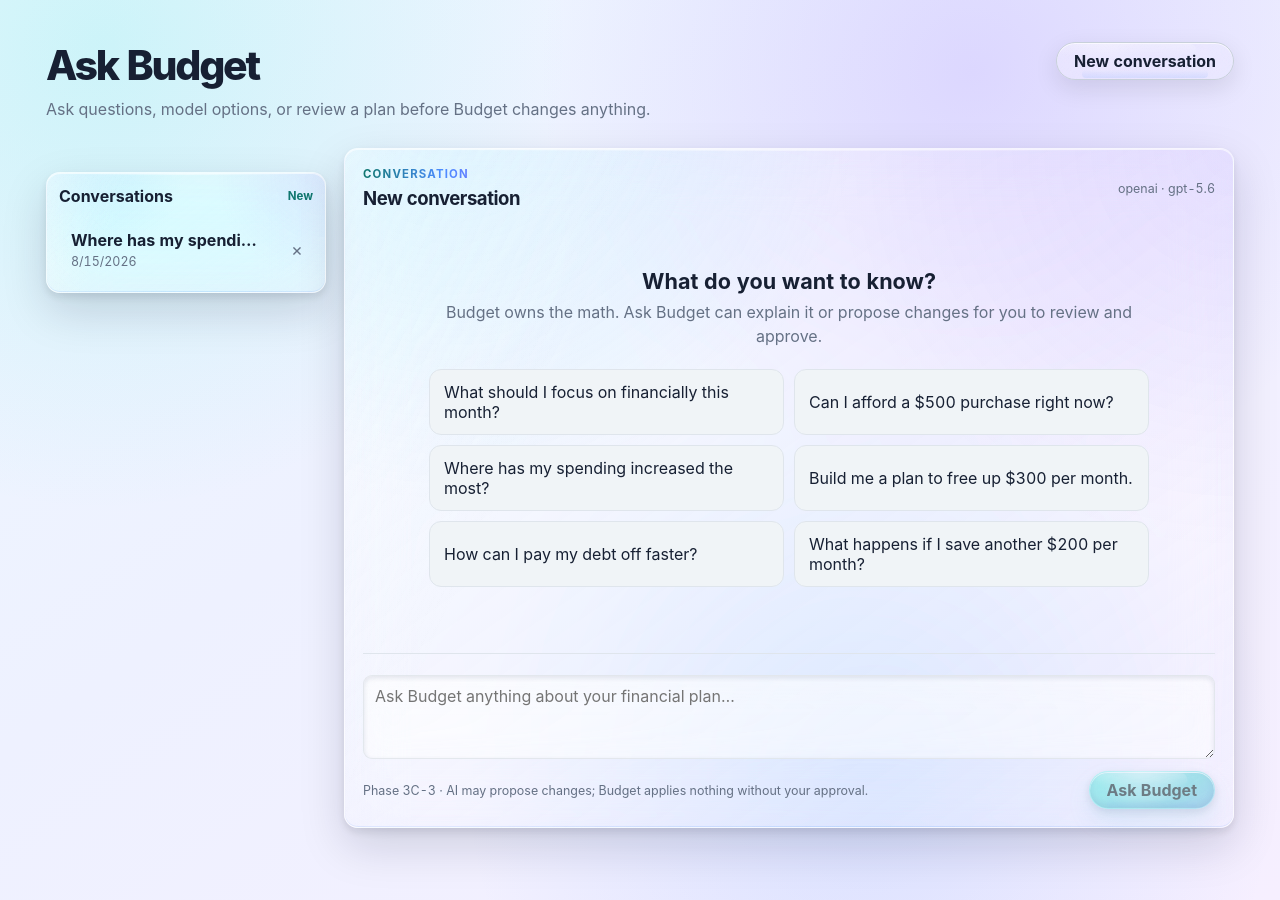
Test case: AdvisorPage › uses an in-app confirmation dialog before deleting a saved conversation
What coordinates should you click on to do the following:
click the button "×"
I would click on:
 (297, 250)
Its box is [281,219,313,280].
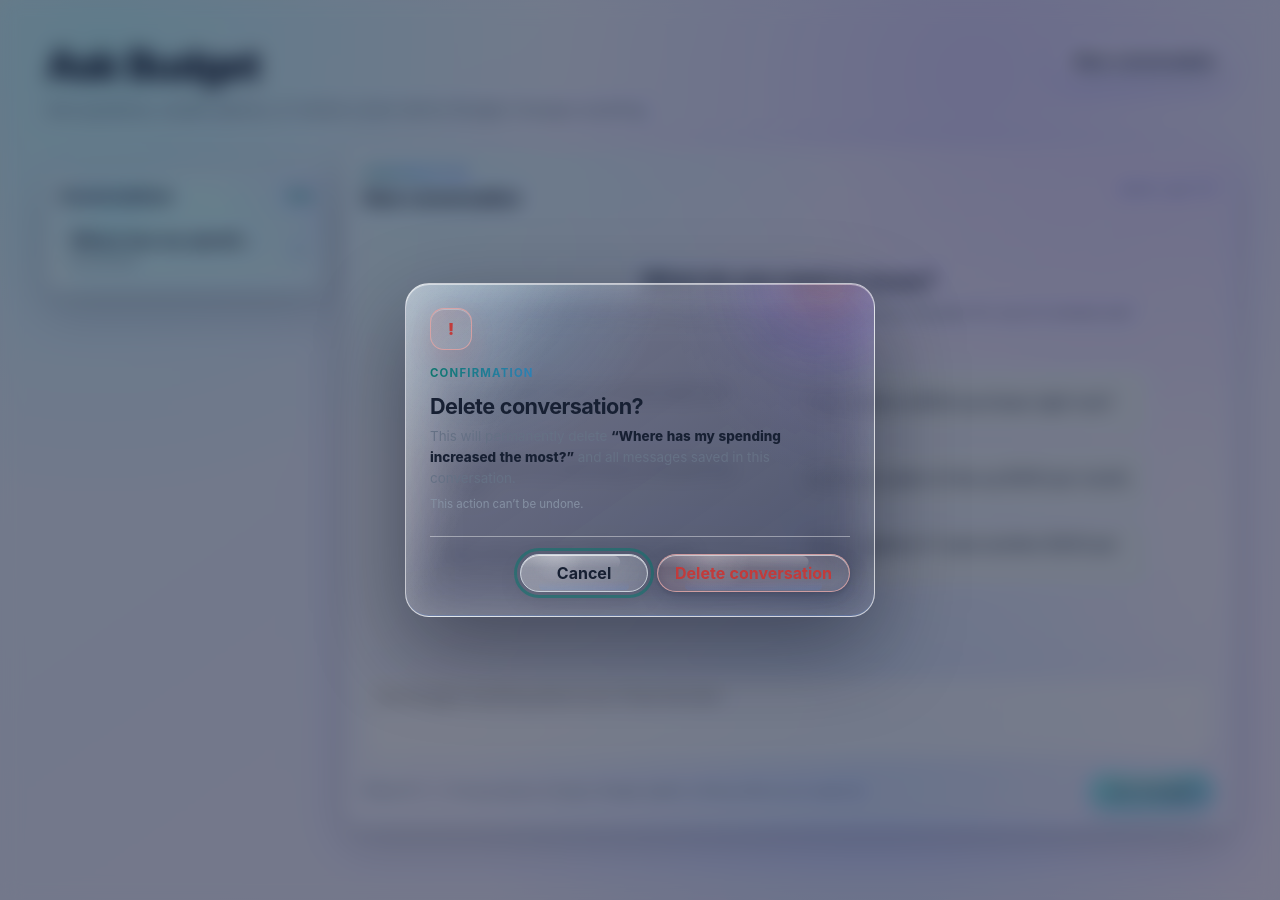
Expected: the text "Where has my spending increased the most?" is shown, [430,428,781,465]
Expected: the text "This action can’t be undone." is shown, [430,497,583,511]
What coordinates should you click on to do the following:
click the button "Cancel"
I would click on:
 (584, 573)
Its box is [520,554,648,592].
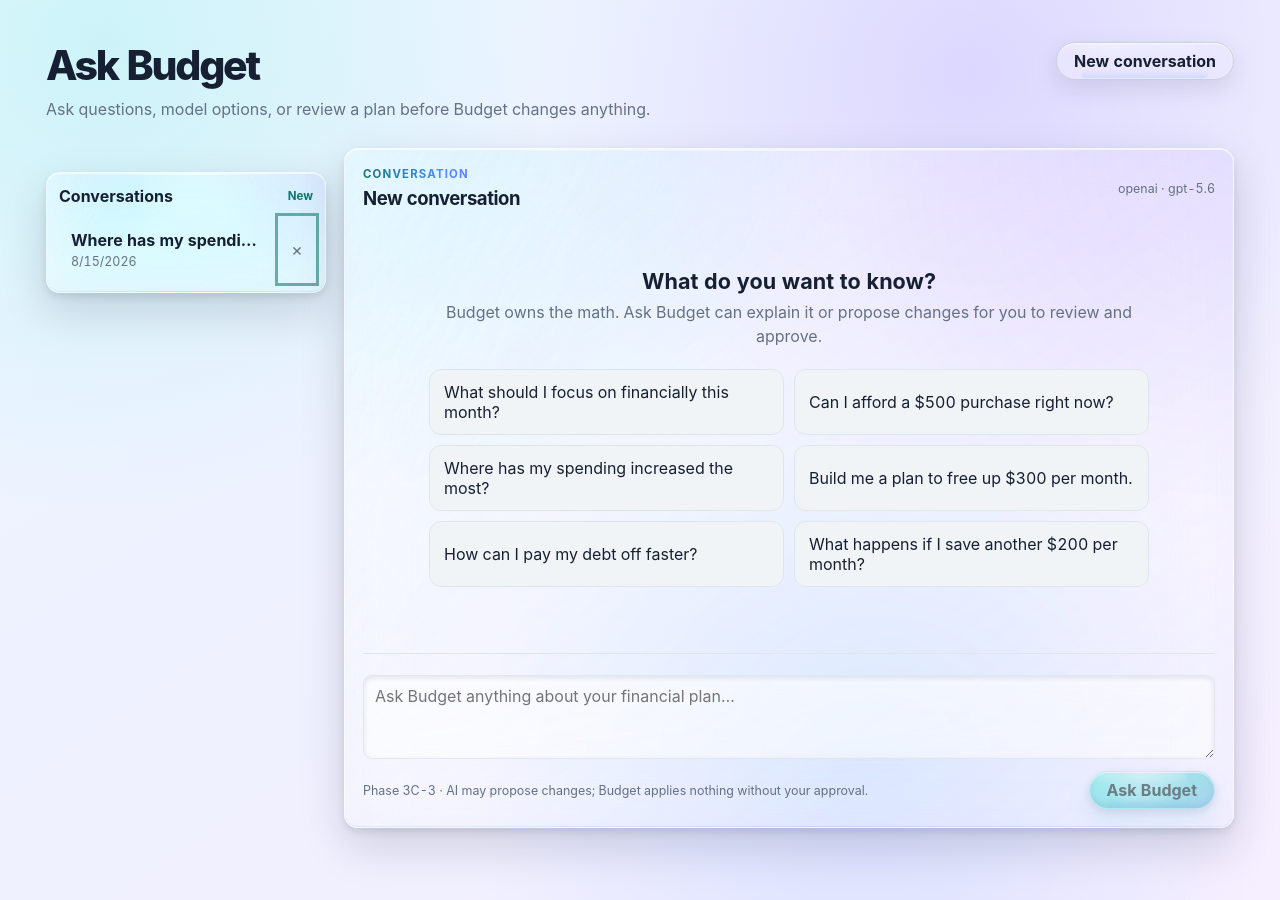
Expected: the heading "Delete conversation?" is gone
What coordinates should you click on to do the following:
click the button "×"
I would click on:
 (297, 250)
Its box is [281,219,313,280].
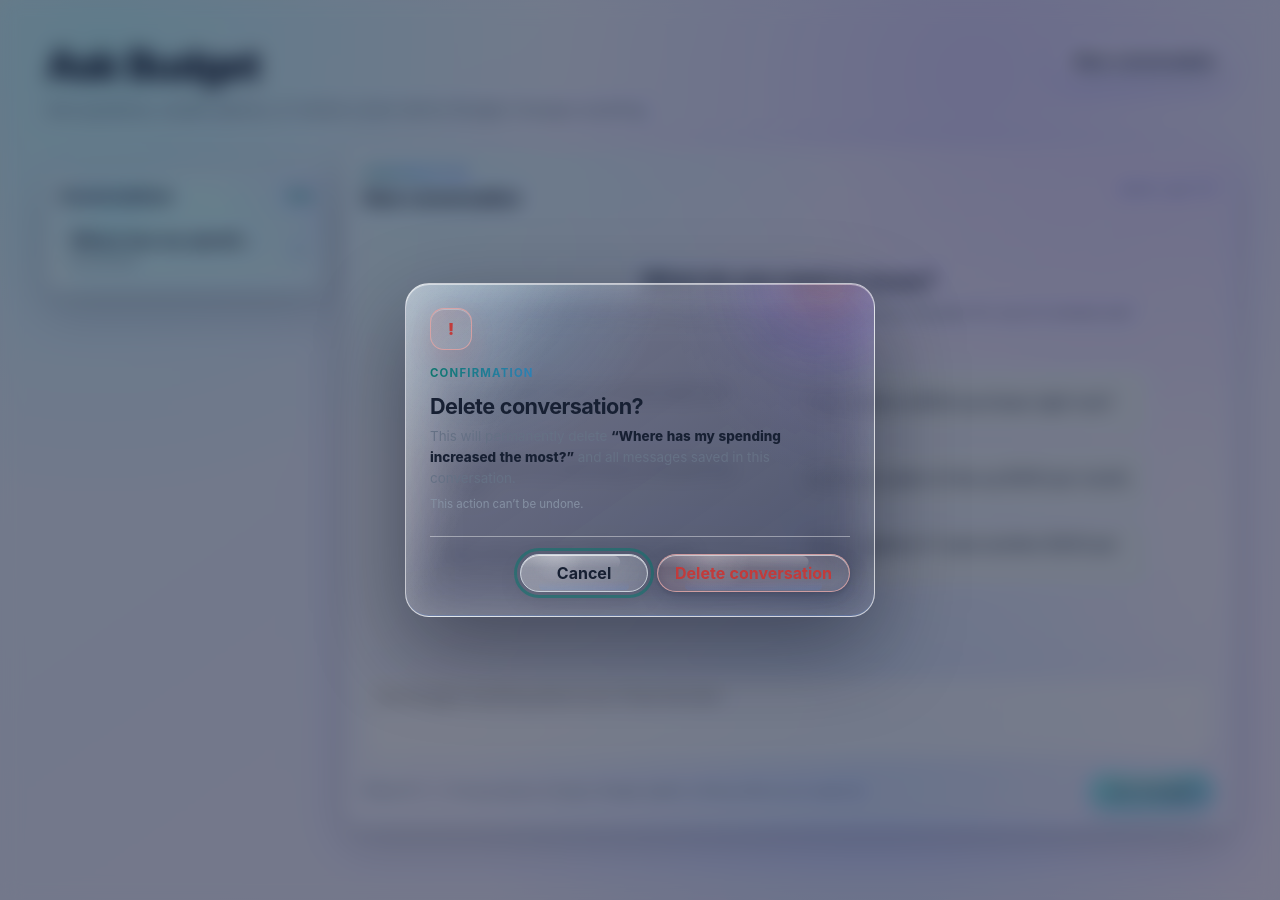
What coordinates should you click on to do the following:
click the button "Delete conversation"
I would click on:
 (754, 573)
Its box is [657,554,850,592].
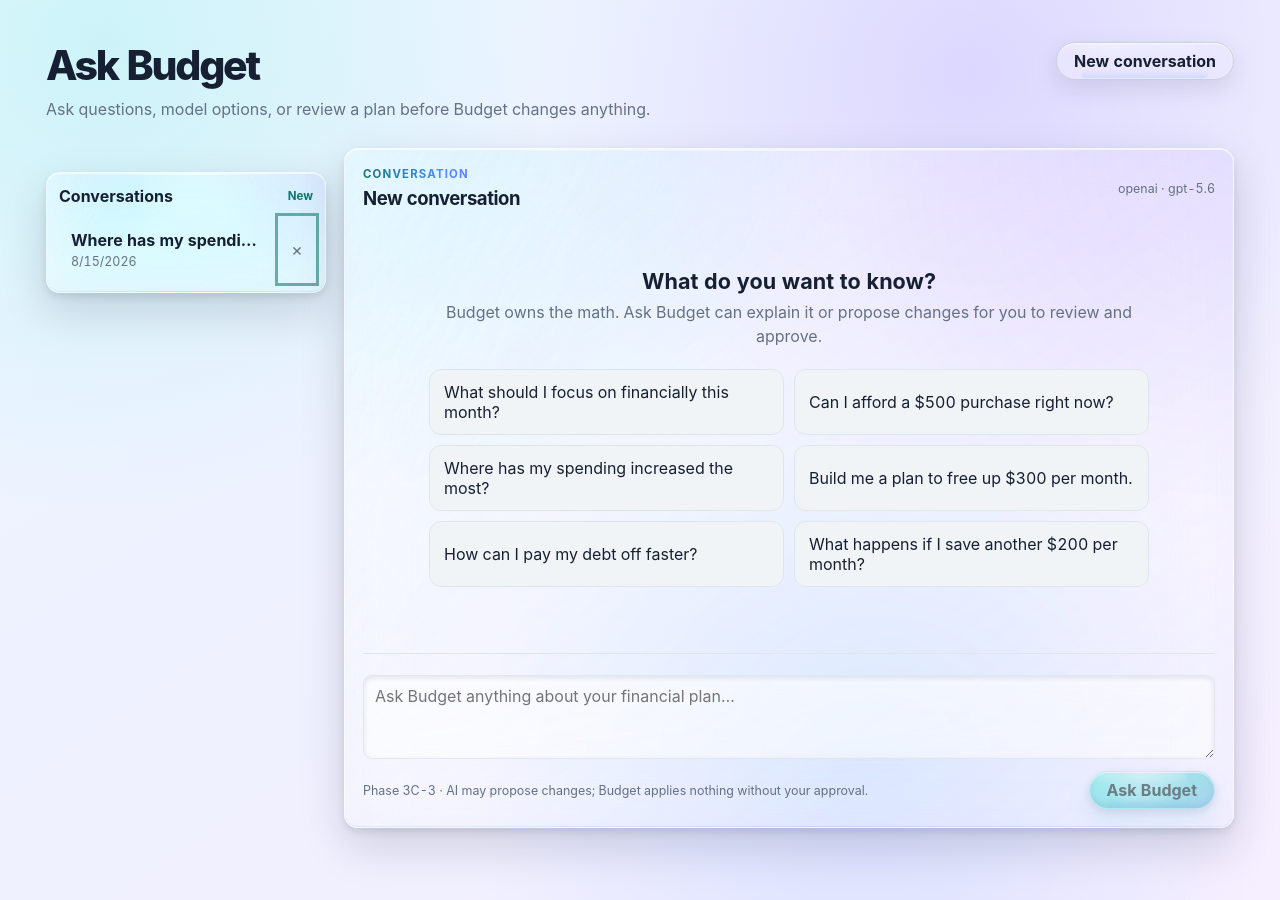
Expected: the heading "Delete conversation?" is gone
